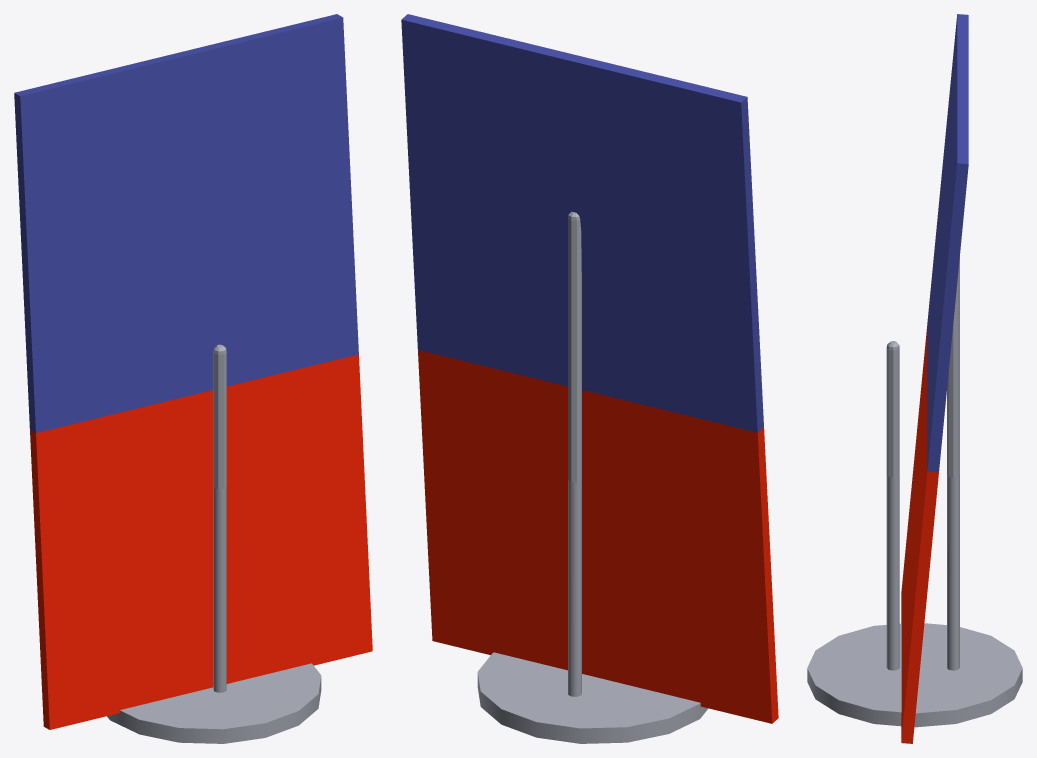
File: SM_sign_storefront.fbx
3 views of the same model, side by side, from view 1: azimuth 30°, elevation 25°; view 2: azimuth 150°, elevation 25°; view 3: azimuth 270°, elevation 25° (orthographic). The views are drawn at different scales.
Parts seen in each view (by area): view 1: sign_storefront; view 2: sign_storefront; view 3: sign_storefront.
Boxes of the visible parts, box(x1,y1,x2,y2) form: sign_storefront: box(14, 14, 372, 743); sign_storefront: box(401, 14, 778, 743); sign_storefront: box(807, 14, 1022, 743).
Size of the model in its own units: 127 by 234 by 77.4.
